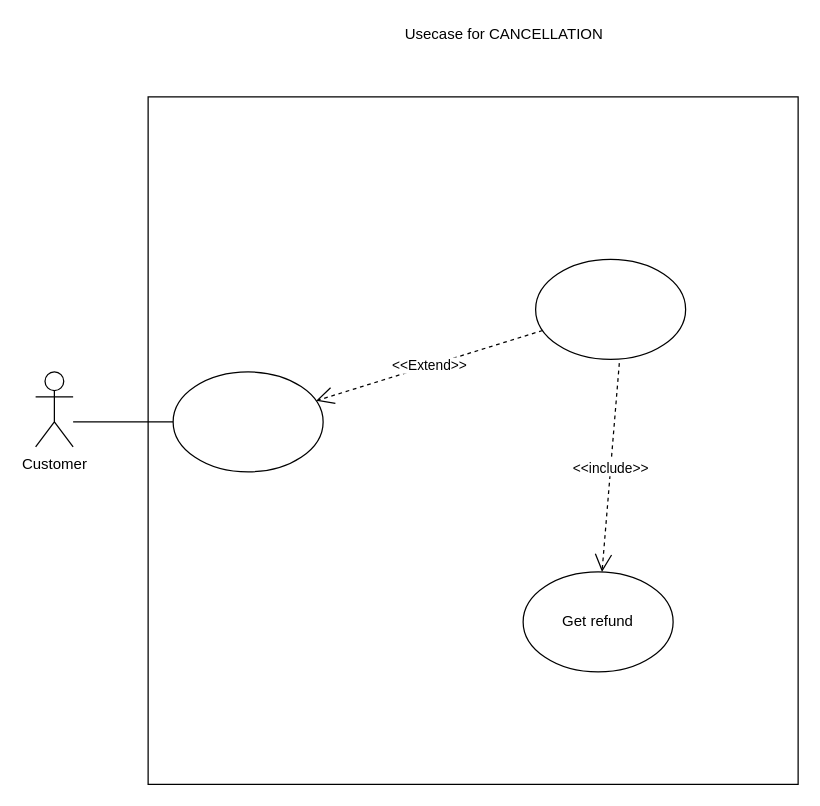
The diagram is 820 pixels wide and 806 high, and some of its shapes have lost their labels. Here are the shapes that lost their labels. From the top down, the centre of each, then its label:
(610,308): Cancel tickets
(247,421): login
